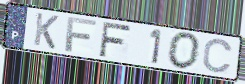1: (149, 28, 163, 67)
C: (201, 38, 235, 75)
F: (98, 21, 133, 59), (64, 16, 98, 54)
K: (32, 11, 60, 51)
O: (167, 31, 202, 71)
